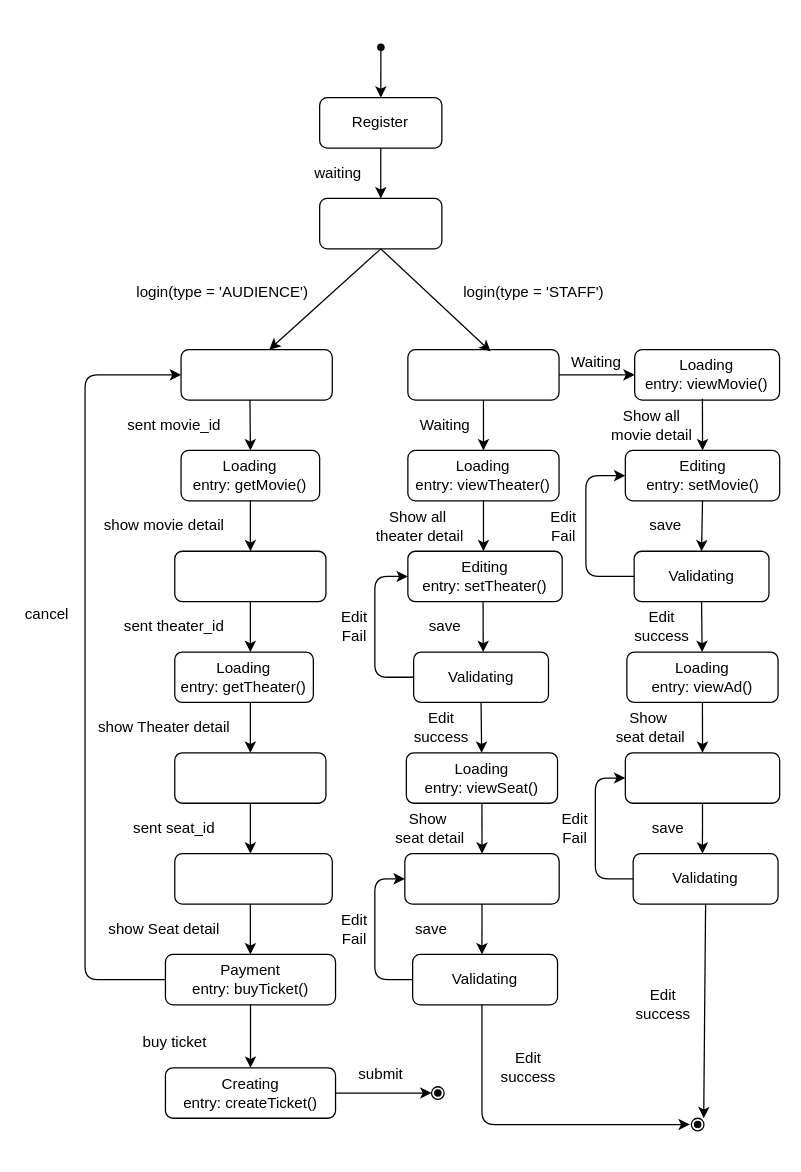
Some shapes in this 801 by 1172 pixel diagram are drawn without their labels. Here are the shapes that lost their labels. From the top down, the box of each, then its label:
(318, 197, 442, 249): Login
(180, 348, 332, 400): Selecting entry: selectMovie()
(407, 348, 559, 400): Idel
(174, 550, 326, 602): Selecting entry: selectTheater()
(174, 752, 326, 803): Selecting entry: selectSeat()
(624, 752, 780, 803): Editing entry: setAd()
(174, 852, 332, 904): Loading entry: getSeat()
(404, 852, 559, 904): Editing entry: setSeat()
